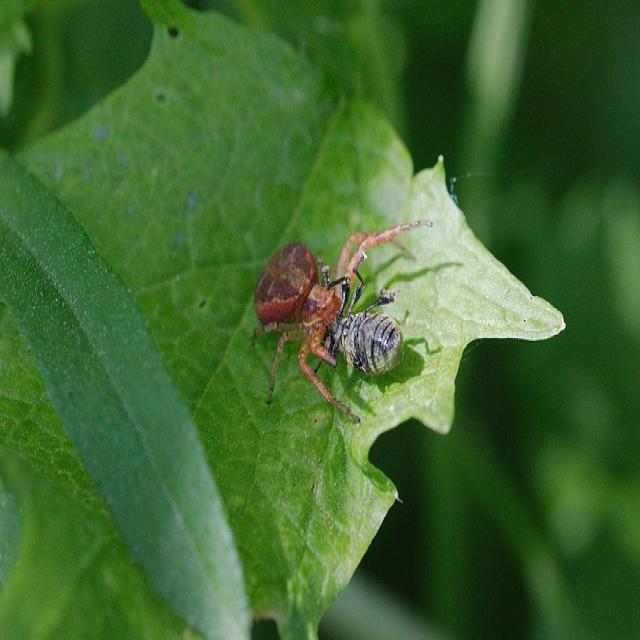spyder: (255, 227, 403, 416)
